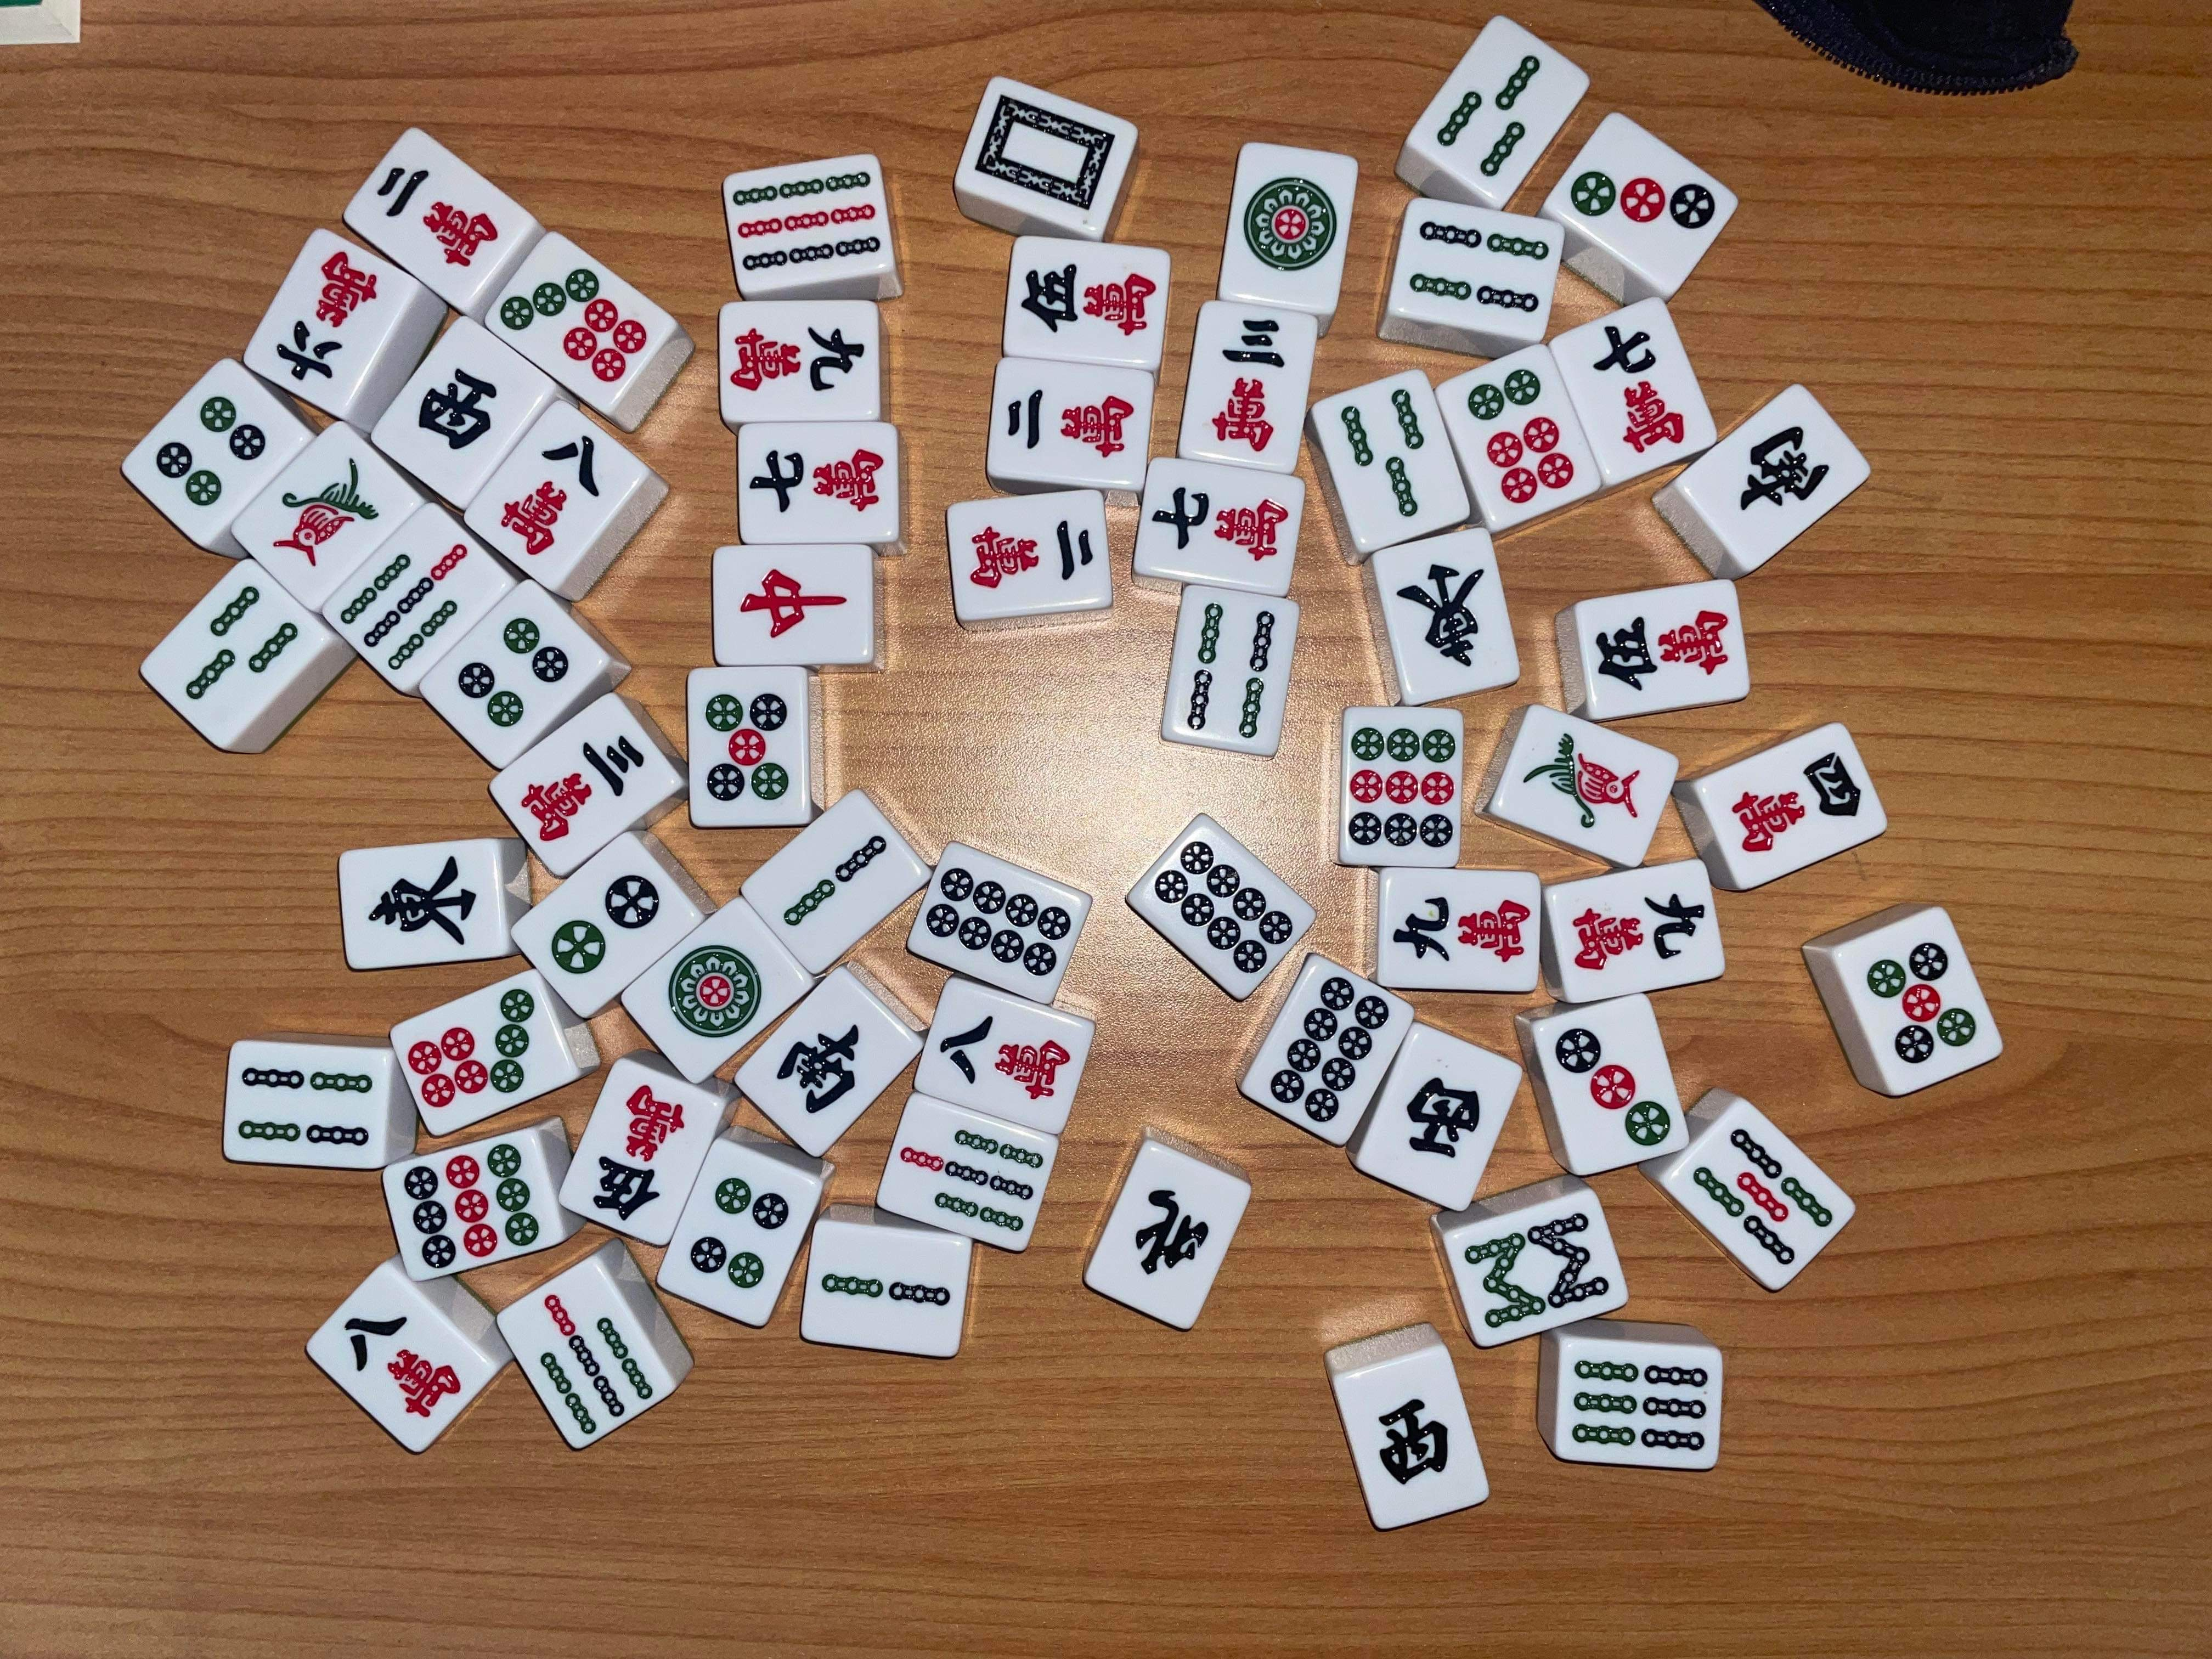b-1: (1519, 730, 1644, 831), (270, 457, 383, 566)
b-2: (782, 833, 890, 929), (817, 1269, 958, 1317)
b-3: (186, 584, 301, 708), (1435, 54, 1547, 176), (1339, 385, 1428, 525)
b-4: (1409, 220, 1550, 319), (1181, 599, 1278, 741), (233, 1060, 380, 1152)
b-5: (1691, 1127, 1832, 1267)
b-6: (1569, 1356, 1710, 1457)
b-7: (340, 542, 482, 671), (892, 1117, 1047, 1236), (538, 1291, 653, 1438)
b-8: (1460, 1213, 1613, 1331)
b-9: (730, 171, 883, 272)
c-2: (373, 166, 500, 267), (1000, 382, 1136, 462), (963, 516, 1097, 594)
c-3: (521, 734, 648, 842), (1205, 312, 1287, 451)
c-4: (1730, 749, 1865, 856)
c-5: (585, 1082, 686, 1222), (1594, 606, 1738, 690), (1017, 260, 1160, 343)
c-6: (275, 249, 381, 382)
c-7: (1150, 477, 1291, 566), (1588, 326, 1686, 453), (745, 444, 887, 519)
c-8: (343, 1314, 465, 1422), (500, 434, 603, 556), (937, 1012, 1073, 1103)
c-9: (728, 315, 867, 397), (1569, 892, 1709, 972), (1390, 894, 1534, 967)
d-1: (1237, 176, 1341, 274), (667, 945, 763, 1039)
d-2: (550, 870, 660, 978)
d-3: (1554, 1025, 1674, 1148), (1569, 167, 1719, 235)
d-4: (153, 394, 270, 509), (458, 617, 571, 727), (686, 1178, 792, 1293)
d-5: (1867, 941, 1979, 1063), (702, 692, 792, 807)
d-6: (1467, 369, 1578, 507)
d-7: (500, 270, 650, 383), (406, 986, 535, 1108)
d-8: (1153, 838, 1299, 979), (1270, 976, 1392, 1126), (921, 864, 1071, 976)
d-9: (399, 1143, 542, 1272), (1348, 723, 1454, 850)
honors-east: (361, 852, 486, 951), (1393, 559, 1493, 669)
honors-north: (1134, 1187, 1207, 1279)
honors-red: (740, 565, 852, 638)
honors-south: (1738, 423, 1831, 518), (775, 1019, 860, 1114)
honors-west: (415, 368, 500, 458), (1376, 1398, 1451, 1488), (1404, 1077, 1482, 1157)
honors-white: (974, 94, 1116, 213)
